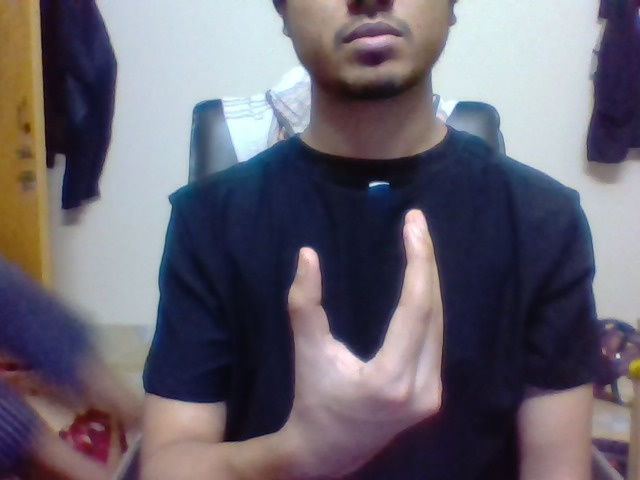U: (262, 198, 465, 406)
